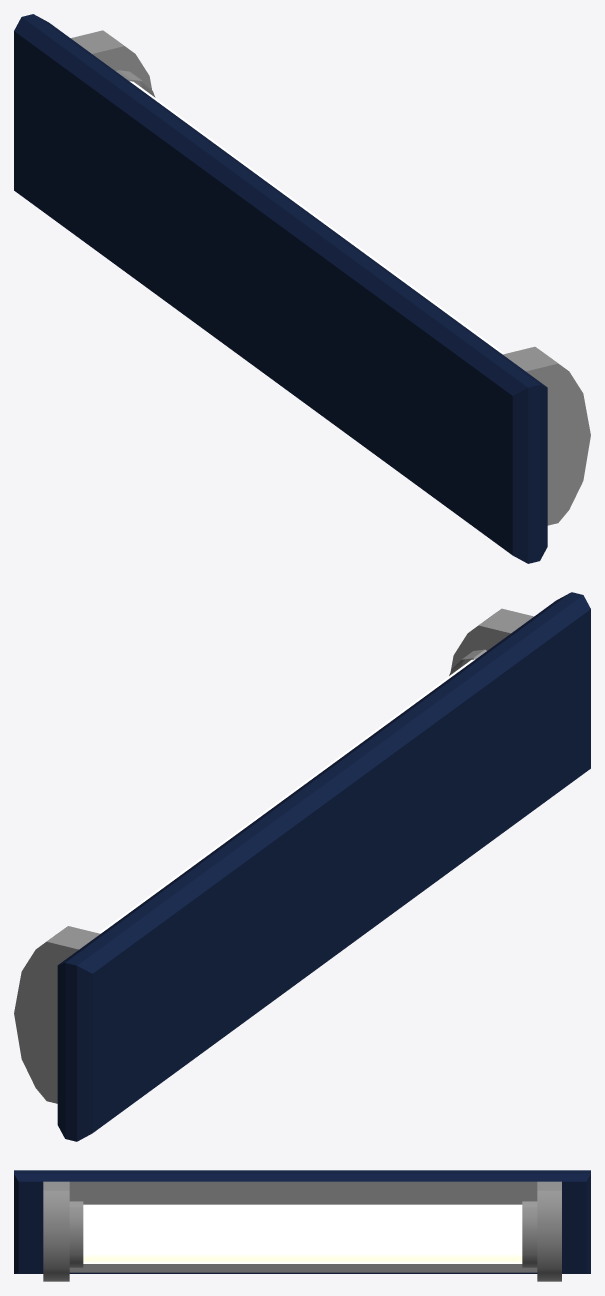
The model's file is luz_bueno_malo.fbx.
The picture shows the model from 3 angles, top to bottom: view 1: azimuth 30°, elevation 25°; view 2: azimuth 150°, elevation 25°; view 3: azimuth 270°, elevation 25°; orthographic projection. The views are drawn at different scales.
Visible parts, largest first — view 1: luz_buenomalo; view 2: luz_buenomalo; view 3: luz_buenomalo.
Boxes of the visible parts, box(x1,y1,x2,y2) form: luz_buenomalo: box(14, 14, 590, 563); luz_buenomalo: box(14, 592, 590, 1141); luz_buenomalo: box(14, 1170, 590, 1281).
Bounding box in the file's own units: 66.8 × 112 × 586.
